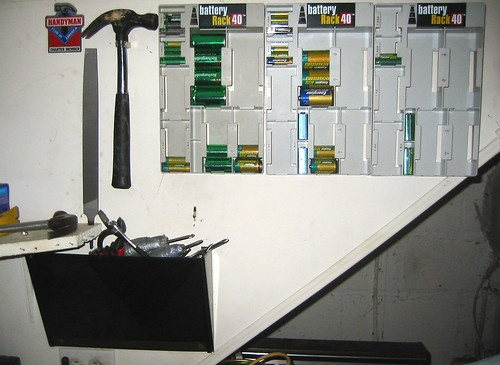hammer: (79, 9, 158, 191), (1, 207, 80, 248)
